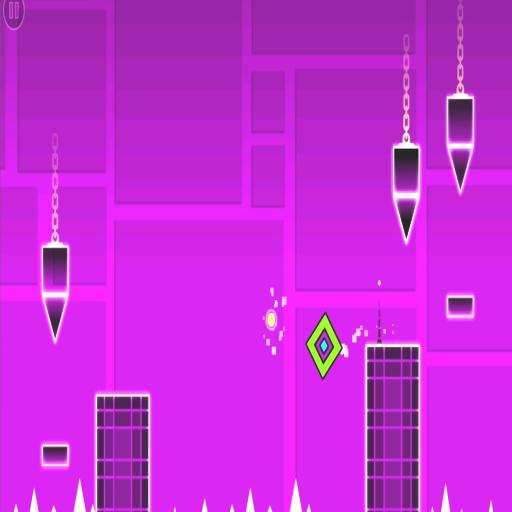block: (363, 341, 424, 512), (94, 390, 153, 512), (442, 90, 477, 150), (387, 143, 423, 201), (39, 239, 70, 297), (444, 290, 476, 326), (38, 441, 71, 472)
player: (306, 312, 342, 379)
spike: (449, 146, 473, 195), (395, 198, 418, 243), (44, 297, 67, 340), (290, 479, 302, 511), (74, 479, 86, 511), (441, 484, 450, 511), (246, 489, 255, 511), (30, 488, 38, 511), (202, 499, 208, 511), (489, 500, 493, 511), (14, 505, 19, 511), (307, 504, 311, 511), (230, 505, 234, 511), (268, 506, 272, 511), (52, 506, 56, 511), (91, 506, 94, 511), (431, 507, 434, 511), (174, 507, 176, 511)
